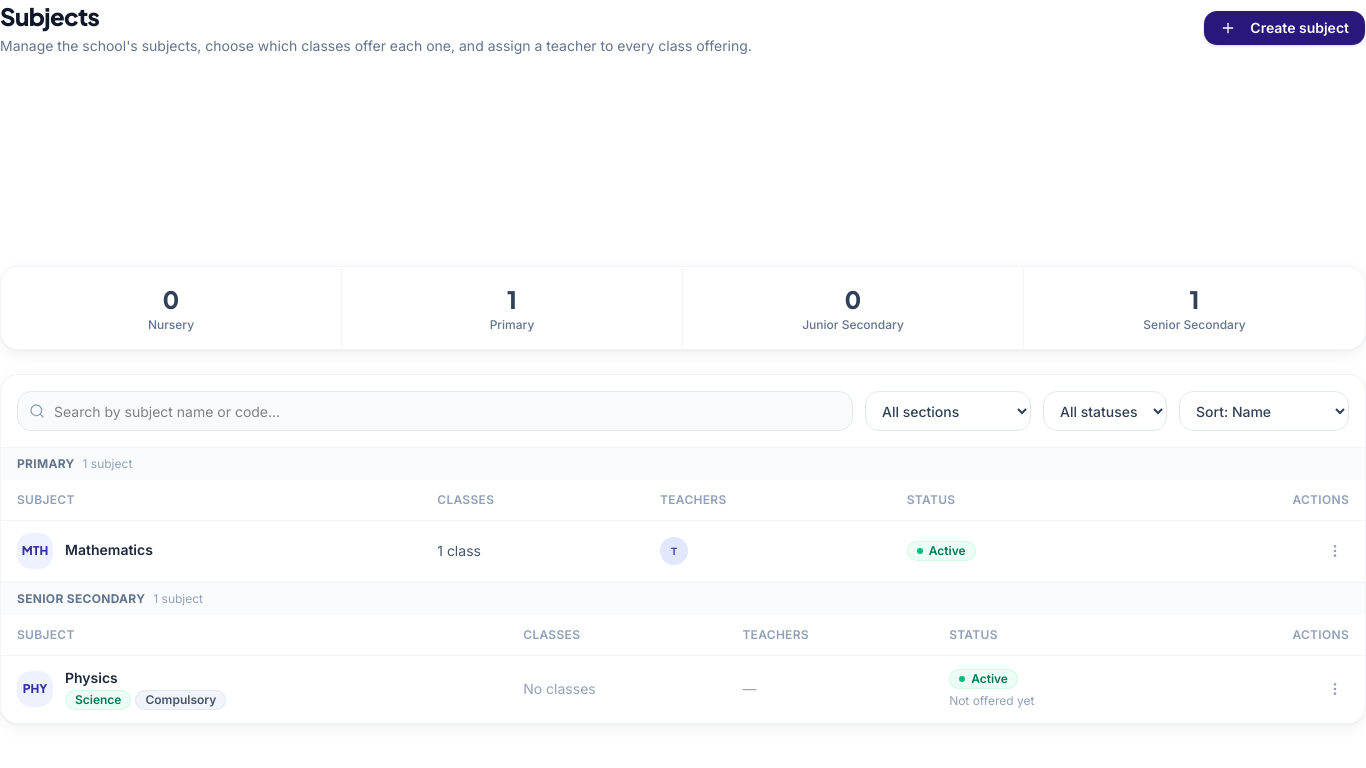
Test case: SubjectsView › modals › opens SubjectDetailModal when subject row is clicked
Click the button "MTH Mathematics".
click(85, 551)  # box [17,533,153,569]
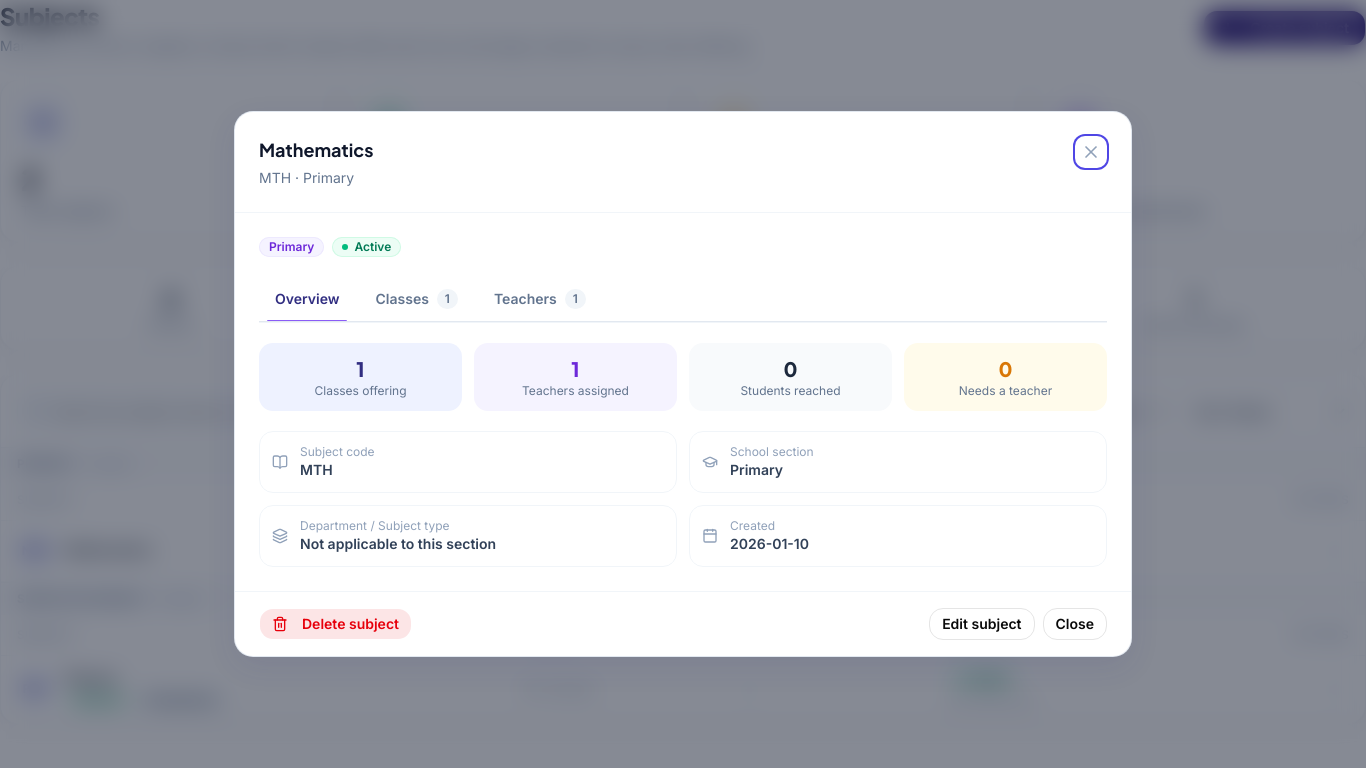
Expected: the dialog is shown, [235,112,1131,656]
Expected: the text "MTH · Primary" is shown, [259,169,354,186]
